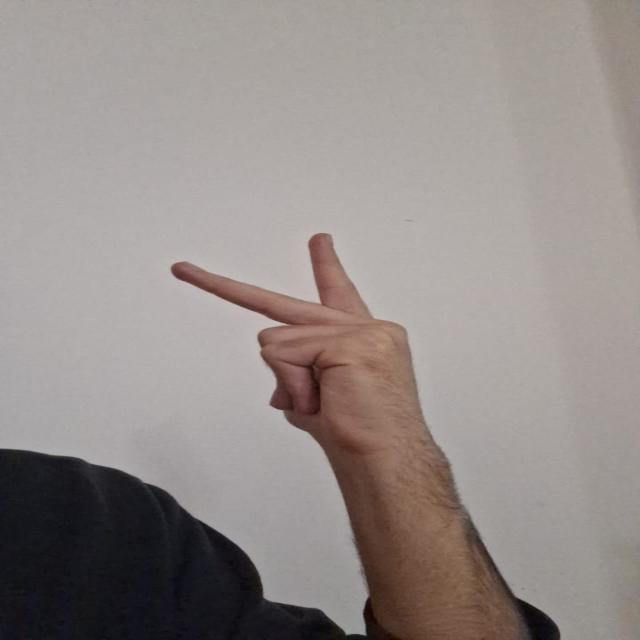K: (163, 224, 430, 438)
